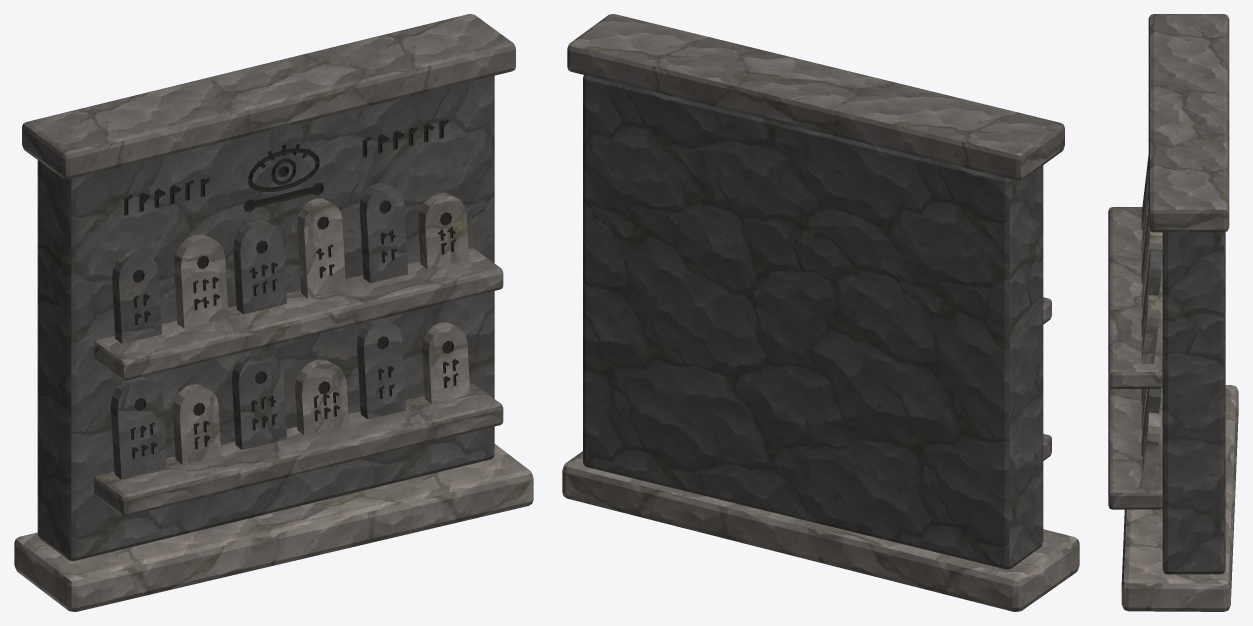
The model's file is vo_prayer_tablets.glb.
3 views of the same model, side by side, from view 1: azimuth 30°, elevation 25°; view 2: azimuth 150°, elevation 25°; view 3: azimuth 270°, elevation 25° (orthographic). The views are drawn at different scales.
Parts seen in each view (by area): view 1: model; view 2: model; view 3: model.
Part boxes in pixels (bbox=[...]): model: bbox=[14, 14, 533, 611]; model: bbox=[562, 14, 1079, 611]; model: bbox=[1108, 14, 1238, 611].
Bounding box in the file's own units: 1.36 × 1.27 × 0.3719.
Materials: 4 (3 with a texture image).
